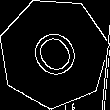O_SE: (22, 20, 86, 86)
